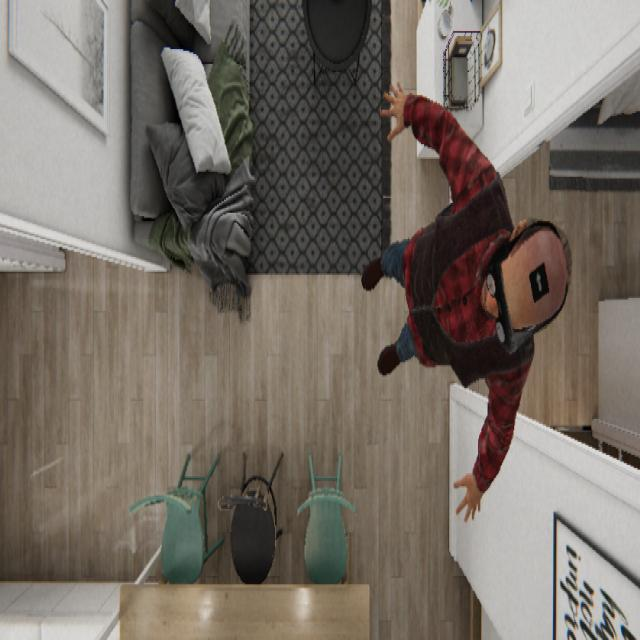Human: (361, 79, 572, 522)
UnityLogo: (496, 216, 572, 342), (528, 258, 550, 304)
